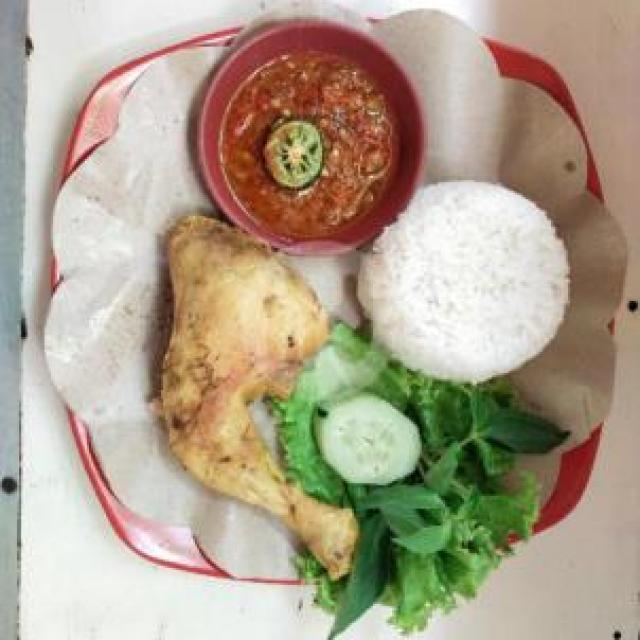ayam_goreng: (136, 213, 354, 552)
nasi_putih: (372, 172, 578, 386)
